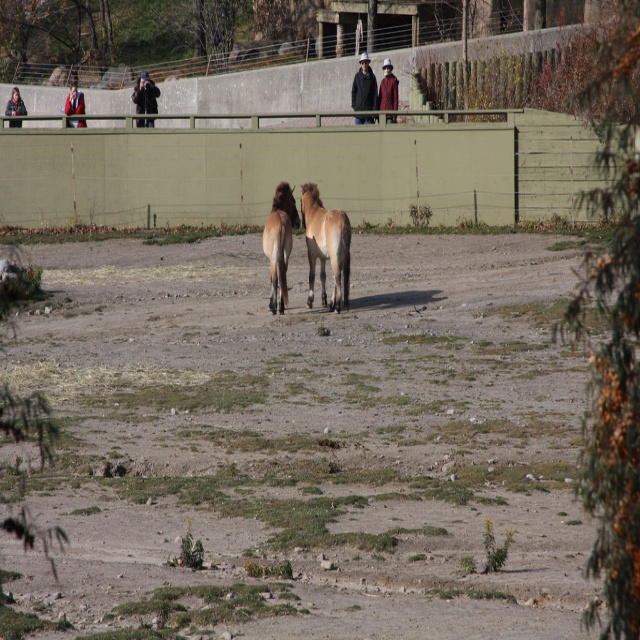Horse: (300, 184, 351, 310), (263, 182, 300, 316)
